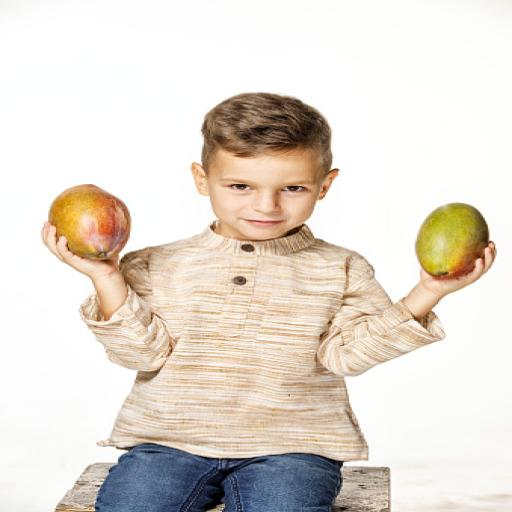mango: (49, 185, 131, 259), (416, 204, 489, 277)
